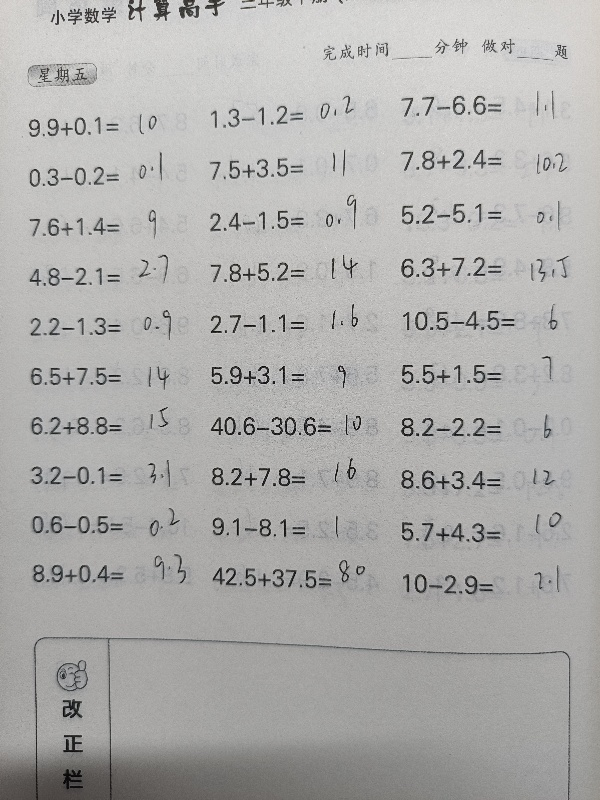equation: (204, 555, 384, 598), (202, 409, 382, 447), (392, 514, 572, 550), (392, 195, 572, 231), (392, 141, 572, 177), (392, 87, 572, 123), (393, 566, 573, 601), (203, 510, 383, 545), (392, 462, 572, 497), (392, 410, 572, 445), (393, 357, 573, 392), (395, 303, 575, 338), (391, 249, 571, 284), (201, 151, 381, 186), (24, 557, 204, 591), (23, 508, 203, 542), (203, 460, 383, 494), (22, 409, 202, 443), (203, 358, 383, 392), (22, 310, 202, 344), (203, 307, 383, 341), (21, 260, 201, 294), (202, 255, 382, 289), (201, 203, 381, 237), (20, 159, 200, 193), (19, 109, 199, 143), (202, 99, 382, 133), (23, 459, 203, 492), (22, 360, 202, 393), (21, 210, 201, 243)
